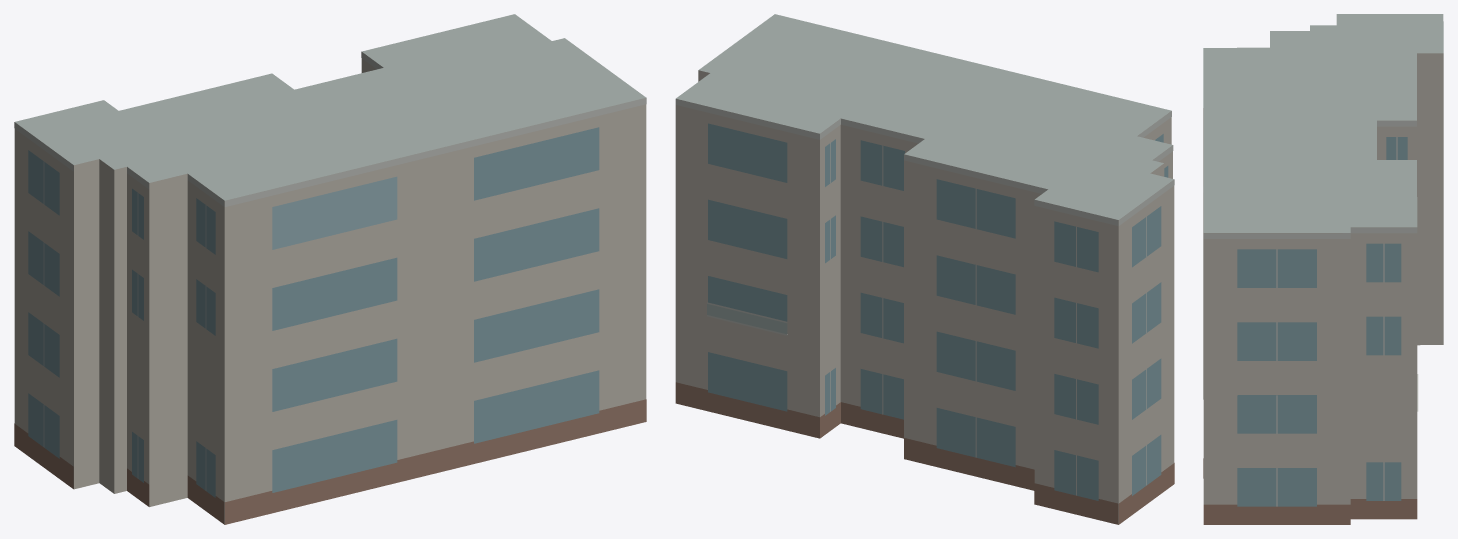
Rendered from survey-upis-32667159.glb.
3 renders of one model, left to right at view 1: azimuth 30°, elevation 25°; view 2: azimuth 150°, elevation 25°; view 3: azimuth 270°, elevation 25°, orthographic. The views are drawn at different scales.
Visible parts, largest first — view 1: survey-upis-32667159.tmp; view 2: survey-upis-32667159.tmp; view 3: survey-upis-32667159.tmp.
Boxes of the visible parts, x1=… form: survey-upis-32667159.tmp: x1=14, y1=14, x2=646, y2=524; survey-upis-32667159.tmp: x1=675, y1=14, x2=1174, y2=524; survey-upis-32667159.tmp: x1=1203, y1=14, x2=1443, y2=524.
Bounding box in the file's own units: 19.5 × 12.1 × 9.04.
